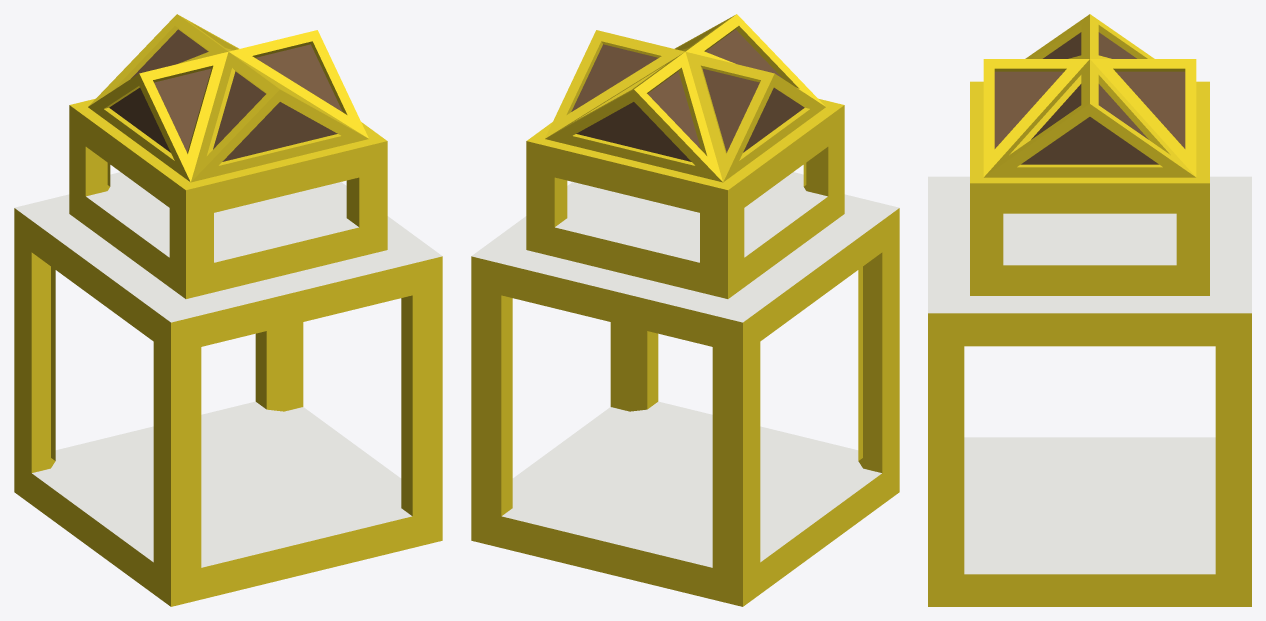
File: relic.glb
3 views of the same model, side by side, from view 1: azimuth 30°, elevation 25°; view 2: azimuth 150°, elevation 25°; view 3: azimuth 270°, elevation 25° (orthographic). The views are drawn at different scales.
Visible parts, largest first — view 1: relic; view 2: relic; view 3: relic.
Part boxes in pixels (box(x1,y1,x2,y2)): relic: box(14, 14, 442, 606); relic: box(471, 14, 899, 606); relic: box(928, 14, 1251, 606).
Bounding box in the file's own units: 0.5 × 0.8171 × 0.5.
